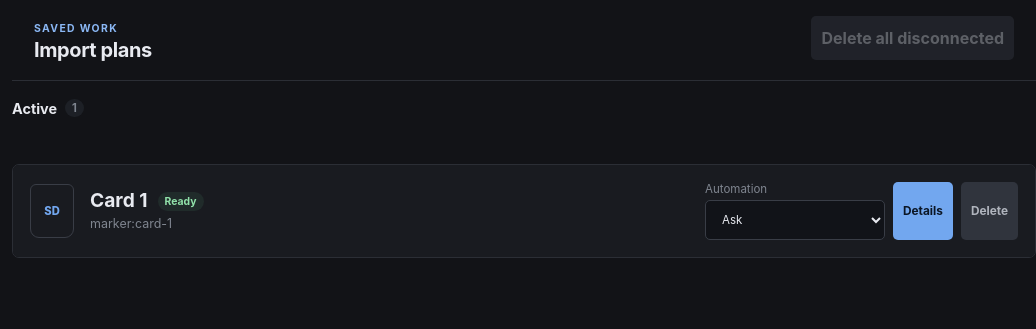
Scenario: PlansPanel › requires a camera profile before creating an automation binding
The image size is (1036, 329).
Select "Prepare plan" in the dropdown named "Automation for Card 1" at coordinates (795, 220), box x1=705 y1=200 x2=885 y2=240
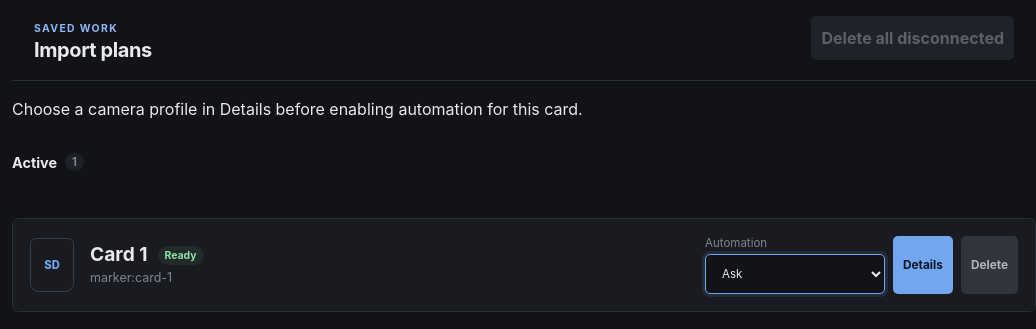
Now the text "Choose a camera profile in Details before enabling automation for this card." is shown, box x1=12 y1=99 x2=583 y2=119
